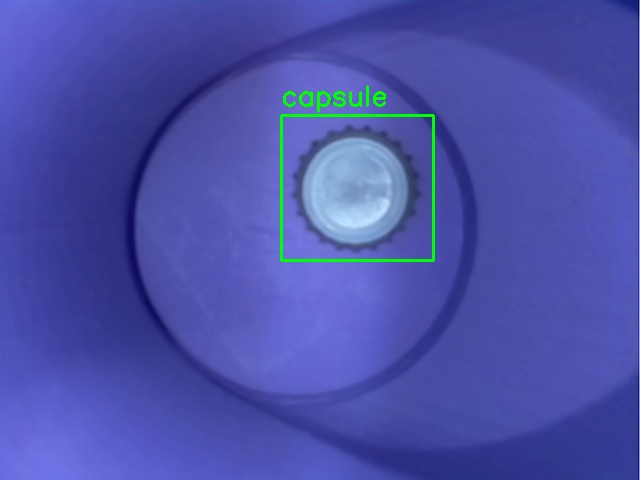capsule: (281, 115, 433, 260)
